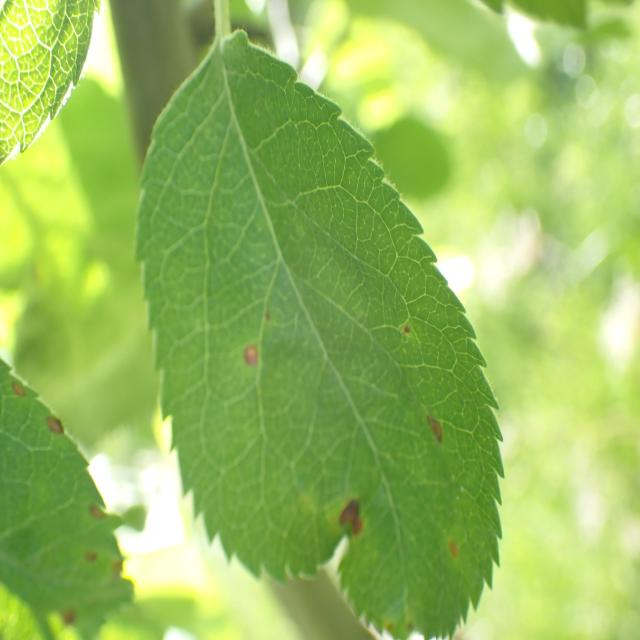Black Rot: (314, 476, 368, 551), (221, 325, 272, 380), (415, 403, 459, 462), (82, 482, 110, 538), (46, 403, 72, 463), (2, 370, 38, 412), (441, 527, 470, 574), (52, 589, 78, 640), (107, 553, 134, 587), (77, 545, 107, 569)
